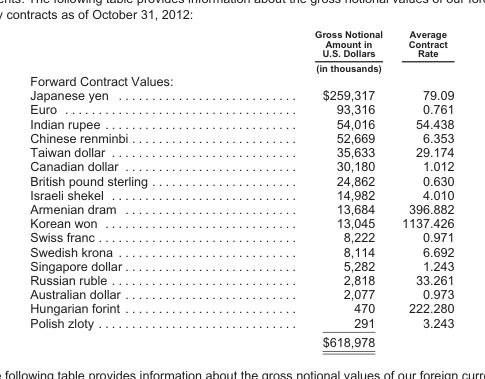table: (29, 28, 453, 348)
table column: (29, 28, 230, 348), (230, 28, 391, 348), (391, 28, 453, 348)
table column header: (29, 28, 453, 73)
table projected row header: (29, 73, 453, 87)
table row: (29, 28, 453, 73), (29, 314, 453, 331), (29, 331, 453, 348), (29, 101, 453, 116), (29, 172, 453, 187), (29, 243, 453, 258), (29, 73, 453, 87), (29, 87, 453, 101), (29, 116, 453, 130), (29, 130, 453, 144), (29, 144, 453, 158), (29, 158, 453, 172), (29, 187, 453, 201), (29, 201, 453, 215), (29, 215, 453, 229), (29, 229, 453, 243), (29, 258, 453, 272), (29, 272, 453, 286), (29, 286, 453, 300), (29, 300, 453, 314)
